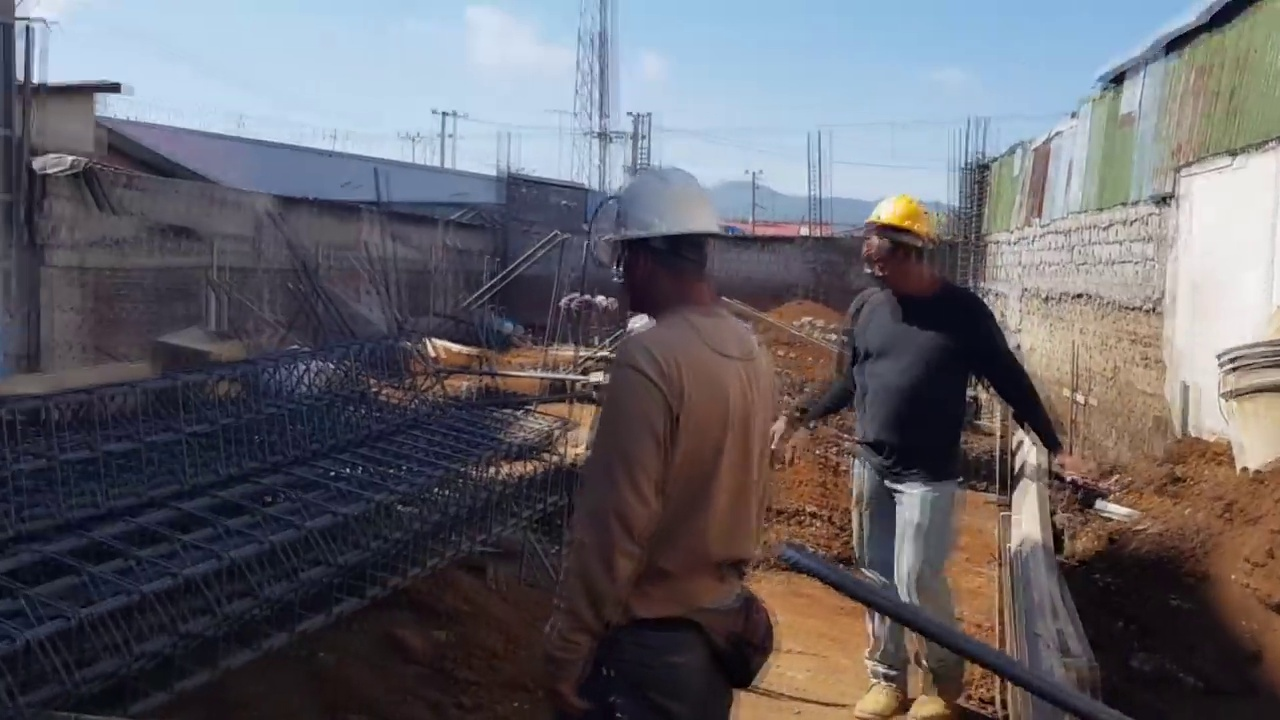helmet: (589, 160, 730, 243), (864, 196, 952, 267)
helmet-on: (598, 165, 740, 317), (866, 197, 950, 305)
person: (763, 194, 1084, 713), (529, 174, 768, 720)
